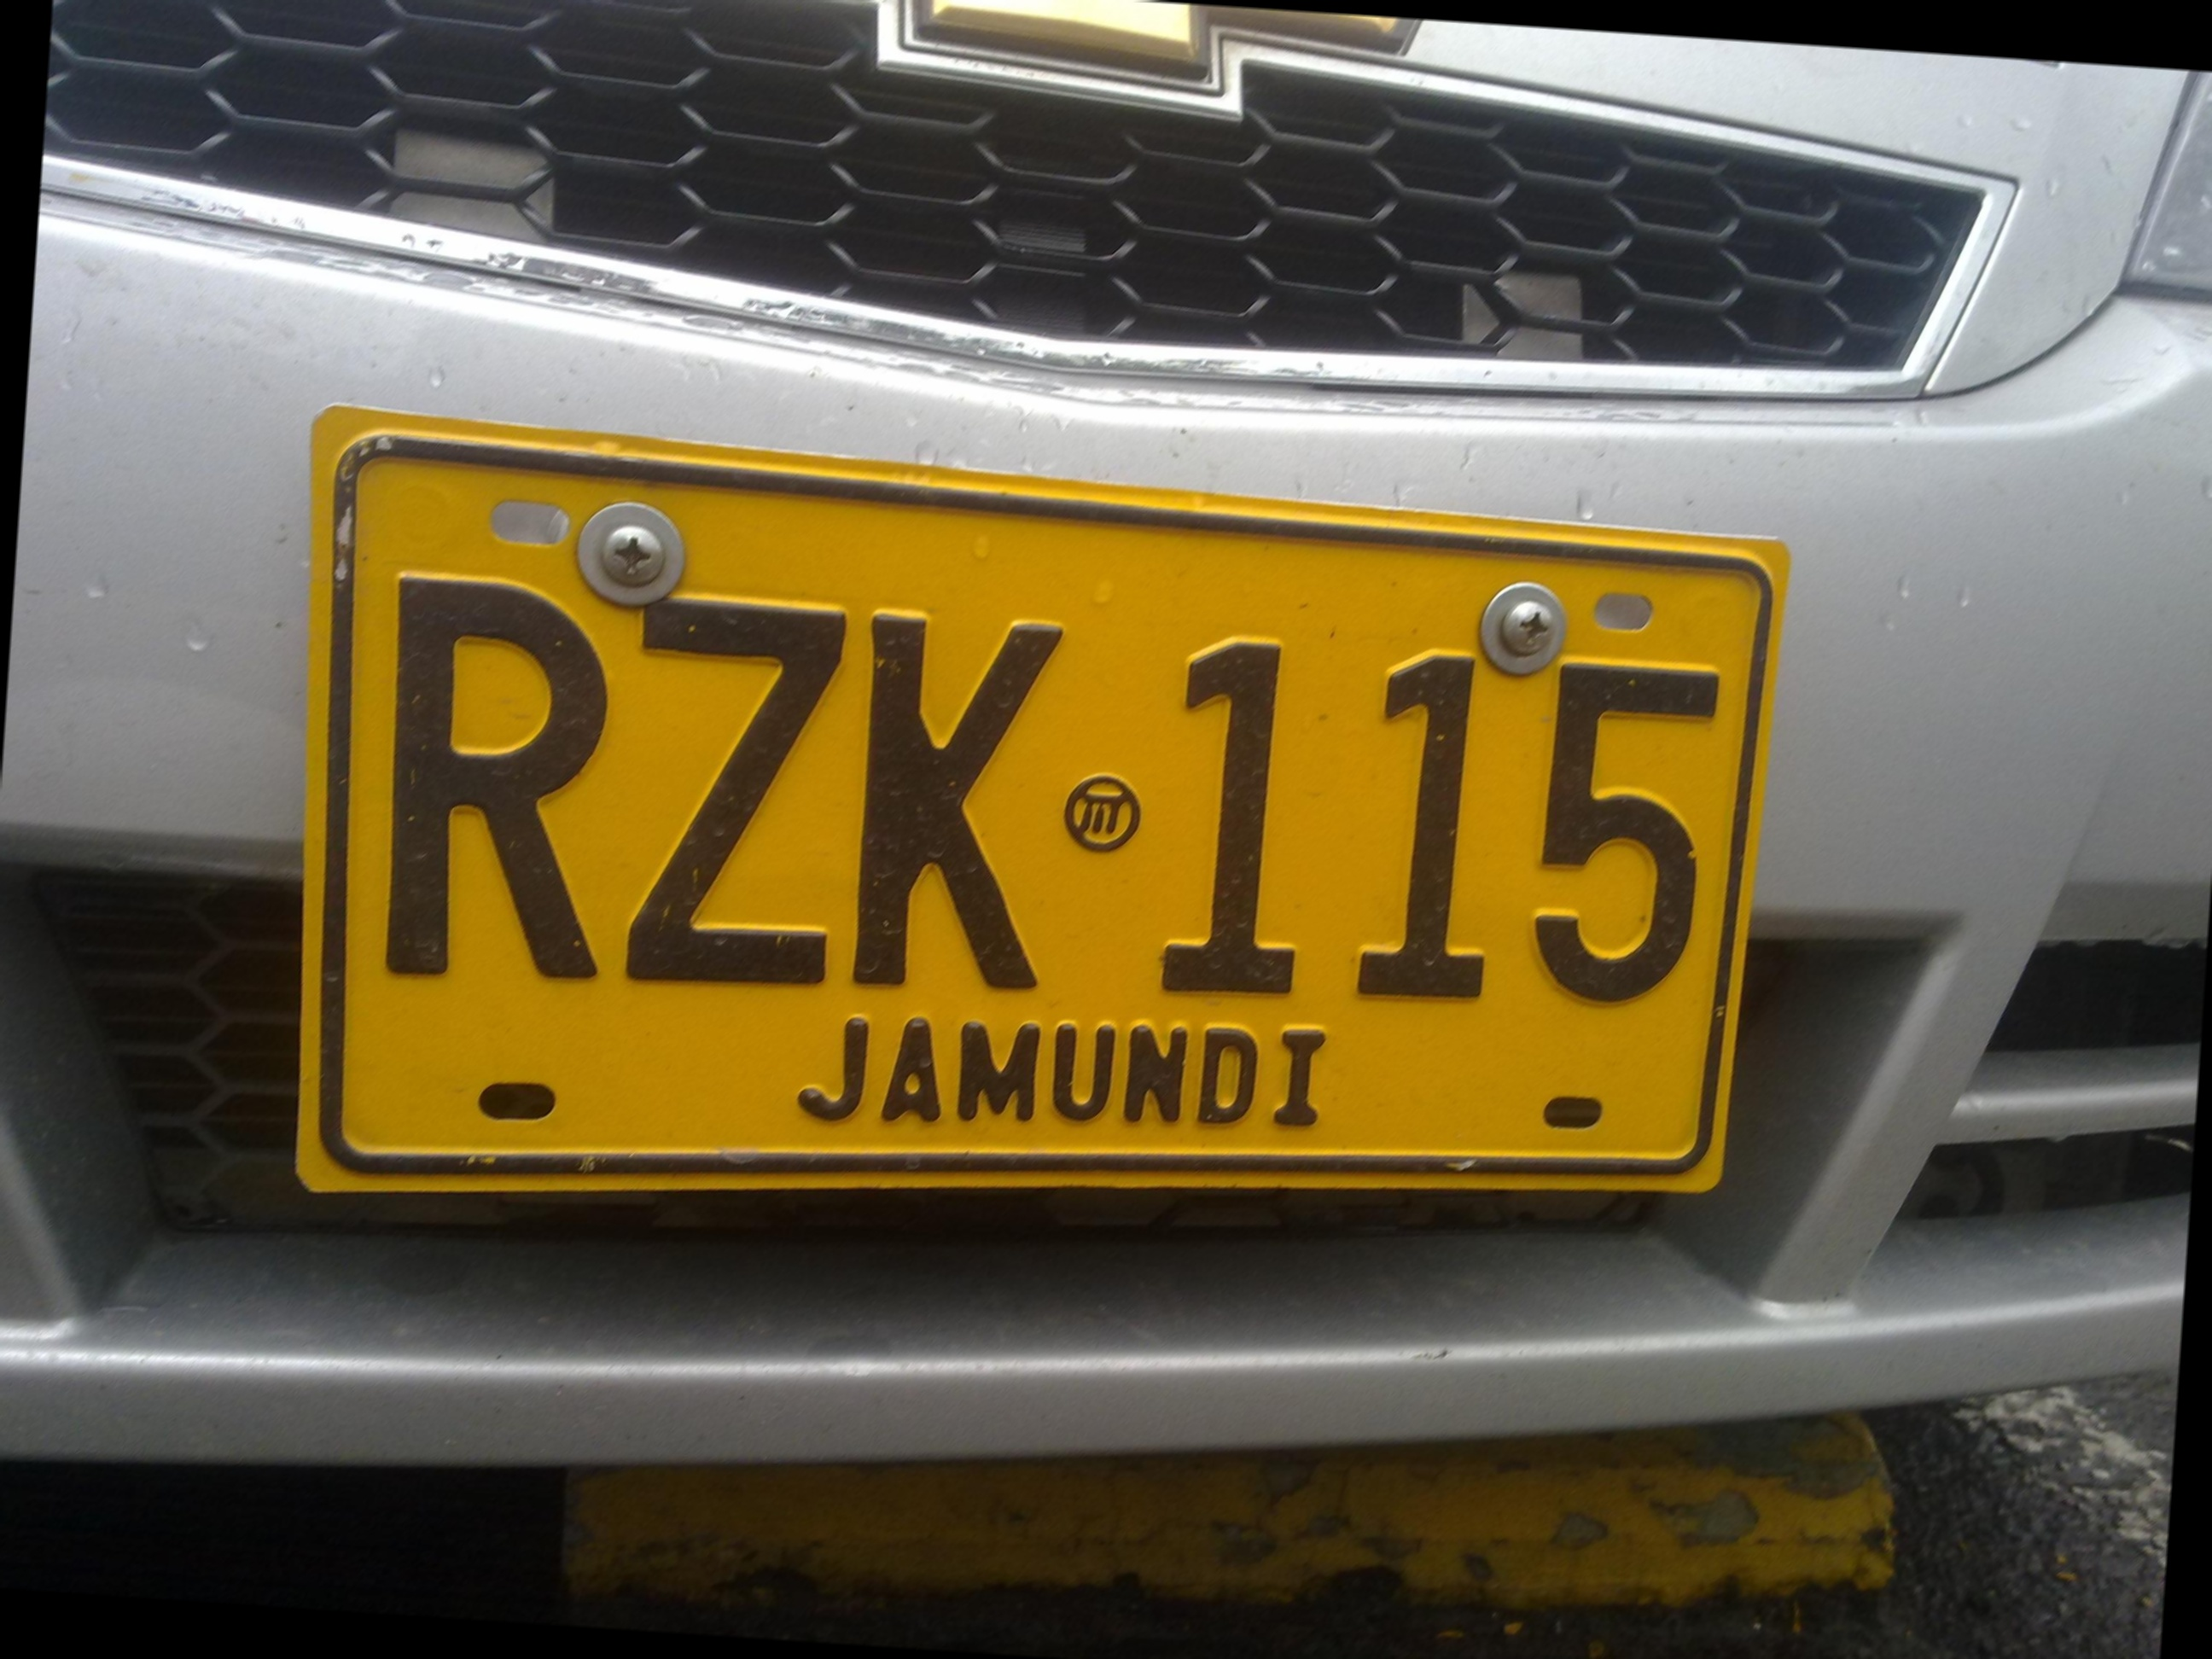placas: (247, 389, 1804, 1299)
